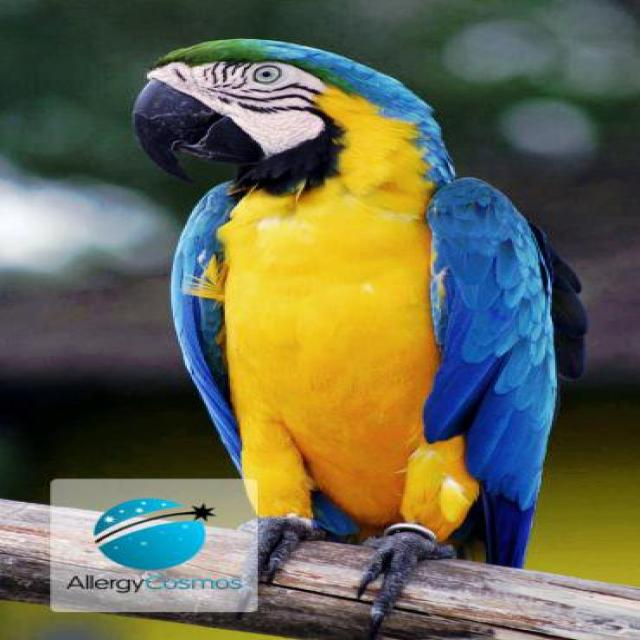Parrot: (126, 38, 560, 594)
